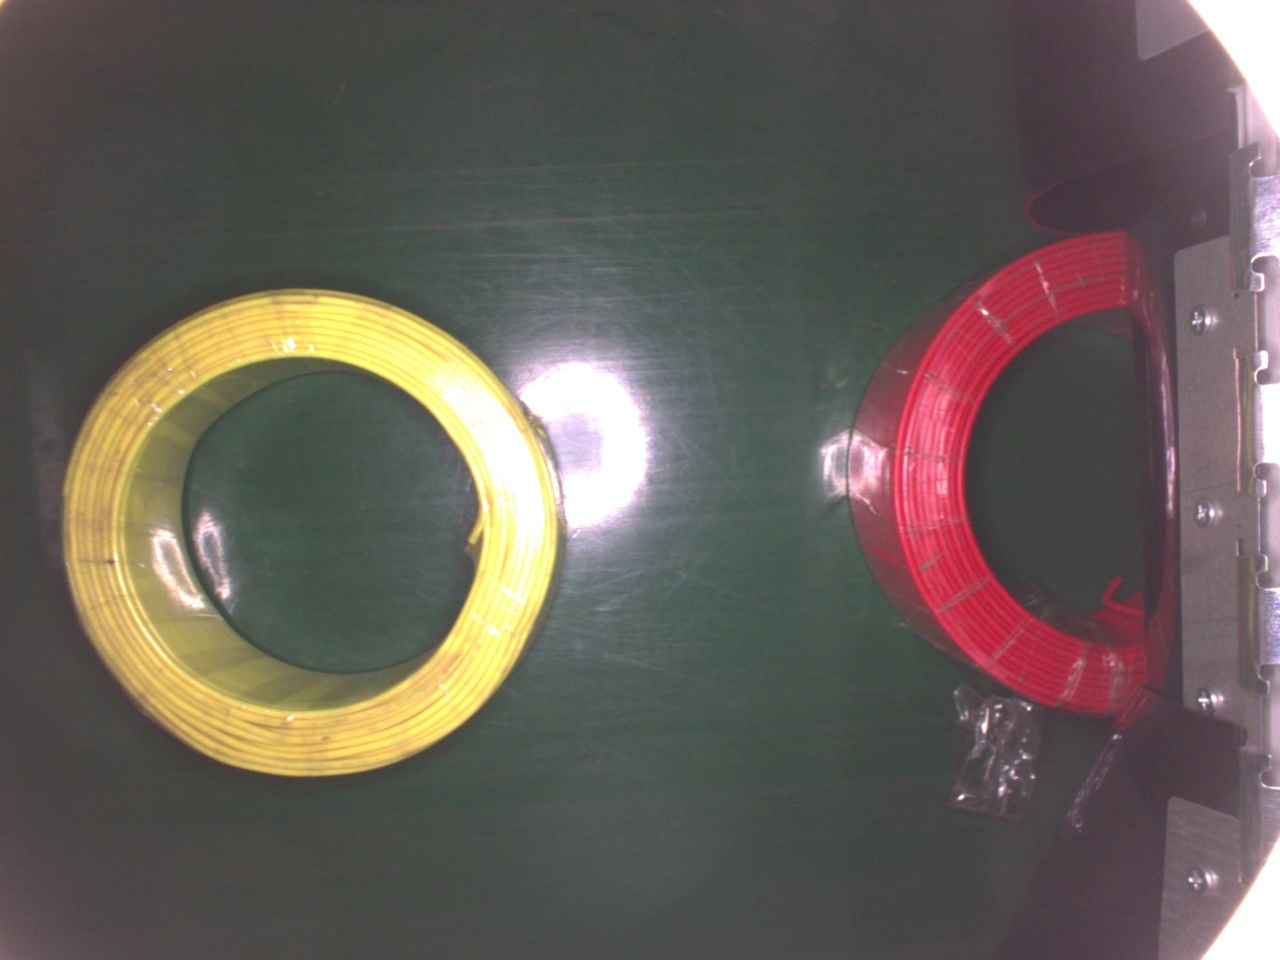red: (848, 227, 1165, 720)
yellow: (57, 286, 563, 781)
